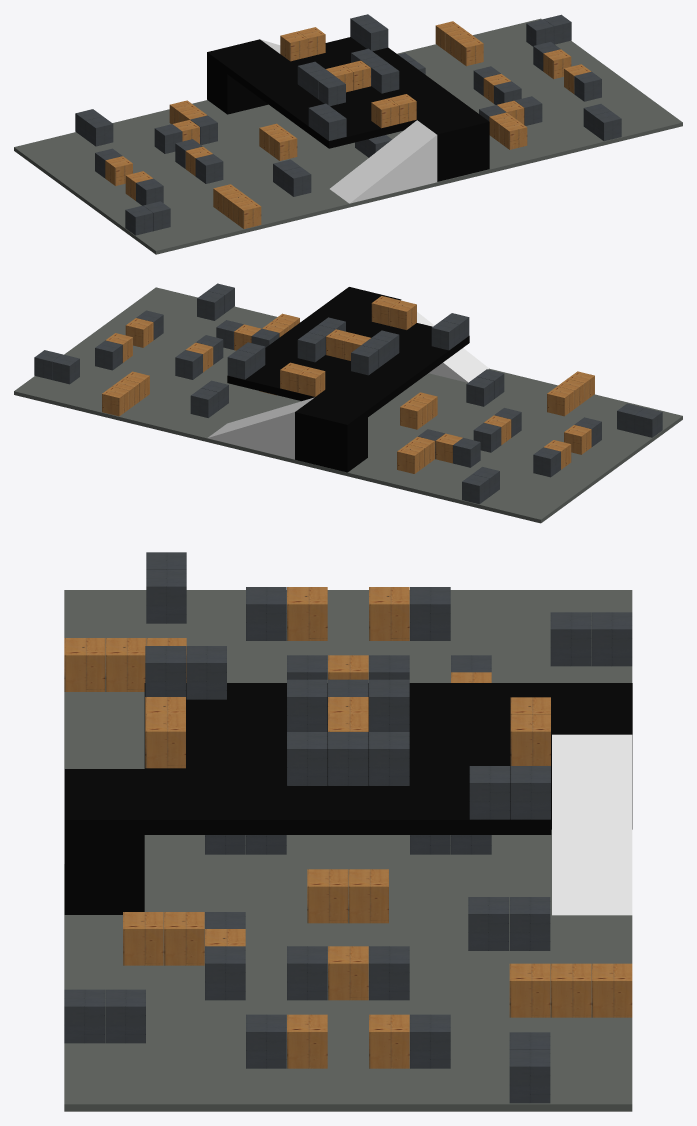
The model's file is stage2.fbx.
3 views of the same model, one above another, from view 1: azimuth 30°, elevation 25°; view 2: azimuth 150°, elevation 25°; view 3: azimuth 270°, elevation 25° (orthographic). The views are drawn at different scales.
Visible parts, largest first — view 1: 土台, 上土台, 階段2, 右stone1.1, 中央R1., 中央上stone1, L木左2, 左ston2, 右Rwood1, 左stone1.1, 上右石1, 上石C4 (+43 smaller); view 2: 土台, 上土台, 階段1, 階段2, 縦黒1.1, 上右木2.1, 上右石2.1, 上石C6, 上右石1.1, 右stone2.2, 縦黒2, 下R2.1 (+46 smaller); view 3: 土台, 上土台, 階段1, 右Lwood2, 右Cwood2, 右Rwood2, 左stone1.1, 左stone1, 縦黒2.1, 右stone2.2, 上右石2, L木右2 (+38 smaller).
Boxes of the visible parts, x1,y1,x2,y2 form: 土台: (14,18,682,254); 上土台: (207,37,489,181); 階段2: (330,120,437,203); 右stone1.1: (283,167,311,196); 中央R1.: (195,154,223,183); 中央上stone1: (269,131,297,160); L木左2: (499,120,527,149); 左ston2: (593,111,621,141); 右Rwood1: (233,199,261,228); 左stone1.1: (85,116,113,146); 上右石1: (318,111,346,140); 上石C4: (371,63,399,93); 土台: (14,287,682,523); 上土台: (227,287,469,472); 階段1: (207,397,314,459); 階段2: (401,299,488,382); 縦黒1.1: (634,408,662,437); 上右木2.1: (297,367,325,396); 上右石2.1: (227,350,255,379); 上石C6: (297,332,325,362); 上右石1.1: (431,320,459,350); 右stone2.2: (190,388,218,417); 縦黒2: (52,354,79,384); 下R2.1: (95,340,122,370); 土台: (64,590,632,1111); 上土台: (64,683,632,914); 階段1: (552,734,632,915); 右Lwood2: (509,963,550,1017); 右Cwood2: (550,963,591,1017); 右Rwood2: (591,963,632,1017); 左stone1.1: (550,612,591,666); 左stone1: (591,612,632,666); 縦黒2.1: (509,1049,550,1103); 右stone2.2: (509,897,550,950); 上右石2: (469,766,510,819); L木右2: (205,946,245,1000).
Size of the model in its own units: 30000 by 3810 by 14010.
Materials: 4 (2 with a texture image).
